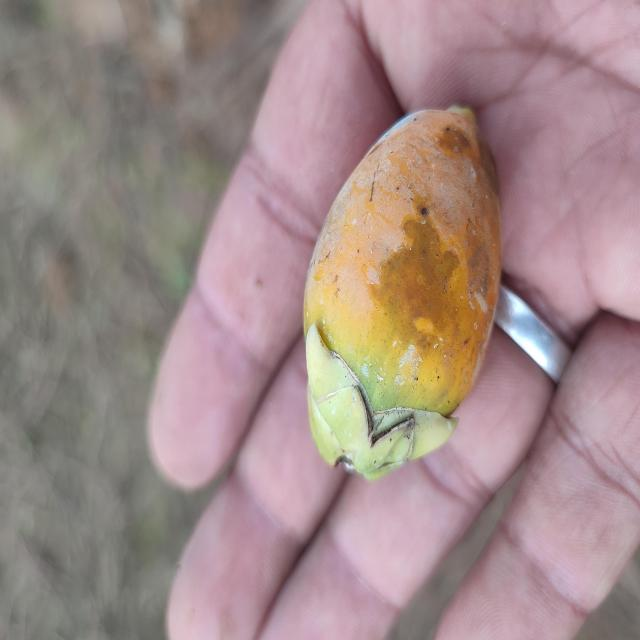good: (301, 107, 502, 483)
